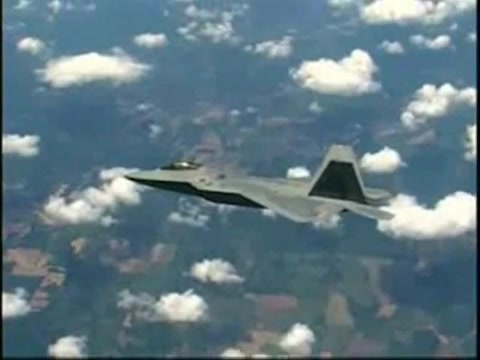aeroplane: (124, 145, 396, 229)
